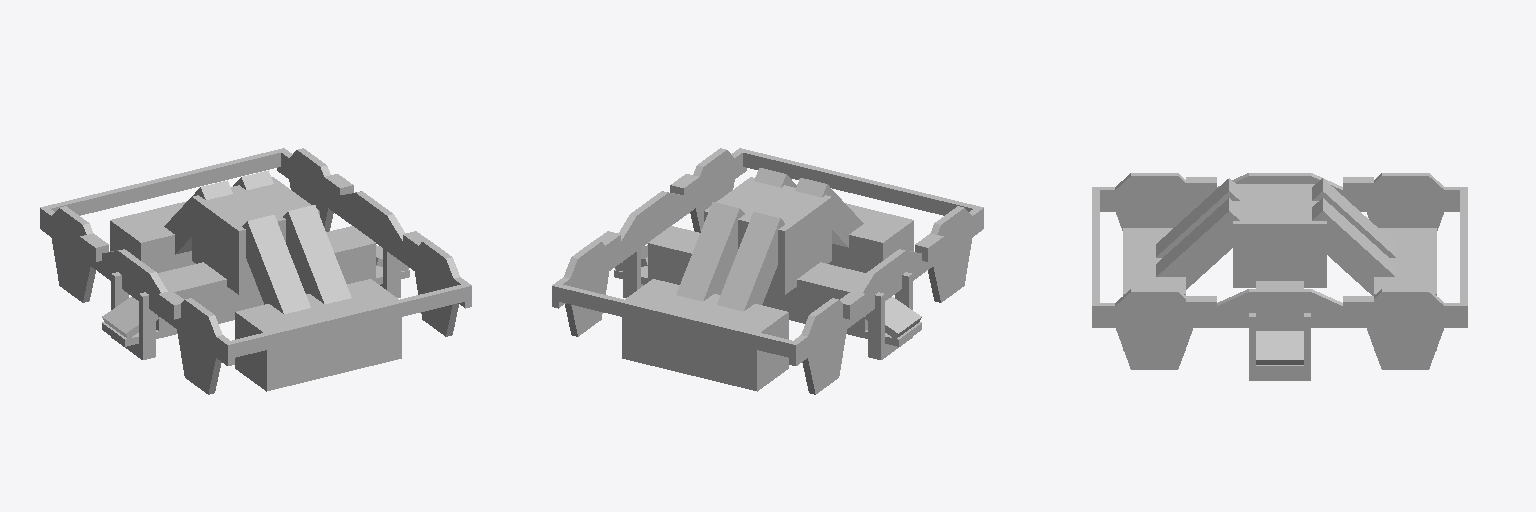
Rendered from blomberg_frame.obj.
The picture shows the model from 3 angles: view 1: azimuth 30°, elevation 25°; view 2: azimuth 150°, elevation 25°; view 3: azimuth 270°, elevation 25°; orthographic projection.
Parts seen in each view (by area): view 1: cube3, cube4, cube1, cube10, cube8, cube2, cube9, cube24, cube11, cube7, cube12, cube19 (+13 smaller); view 2: cube7, cube4, cube1, cube2, cube24, cube5, cube6, cube10, cube11, cube3, cube12, cube19 (+13 smaller); view 3: cube4, cube24, cube11, cube9, cube6, cube7, cube25, cube26, cube3, cube29, cube36, cube5 (+13 smaller).
Part boxes in pixels (x1,y1,x2,y2): cube3: (235, 279, 401, 391); cube4: (192, 177, 319, 294); cube1: (156, 226, 375, 337); cube10: (232, 284, 464, 357); cube8: (242, 215, 310, 313); cube2: (47, 150, 280, 215); cube9: (283, 205, 351, 303); cube24: (277, 148, 471, 308); cube11: (40, 206, 234, 365); cube7: (110, 201, 195, 272); cube12: (52, 238, 95, 302); cube19: (177, 330, 221, 394); cube7: (622, 279, 788, 391); cube4: (704, 177, 831, 294); cube1: (648, 226, 867, 337); cube2: (559, 284, 791, 357); cube24: (552, 148, 746, 308); cube5: (717, 212, 784, 311); cube6: (676, 202, 744, 301); cube10: (743, 150, 976, 215); cube11: (789, 206, 983, 365); cube3: (828, 203, 913, 272); cube12: (802, 330, 846, 394); cube19: (928, 238, 971, 302); cube4: (1233, 184, 1326, 287); cube24: (1092, 303, 1467, 327); cube11: (1092, 187, 1467, 211); cube9: (1156, 198, 1239, 289); cube6: (1312, 198, 1395, 295); cube7: (1374, 228, 1436, 350); cube25: (1116, 328, 1192, 369); cube26: (1367, 328, 1443, 369); cube3: (1123, 228, 1185, 350); cube29: (1217, 289, 1342, 305); cube36: (1256, 331, 1303, 364); cube5: (1312, 178, 1395, 257).
Size of the model in its own units: 2.62 by 1.09 by 3.